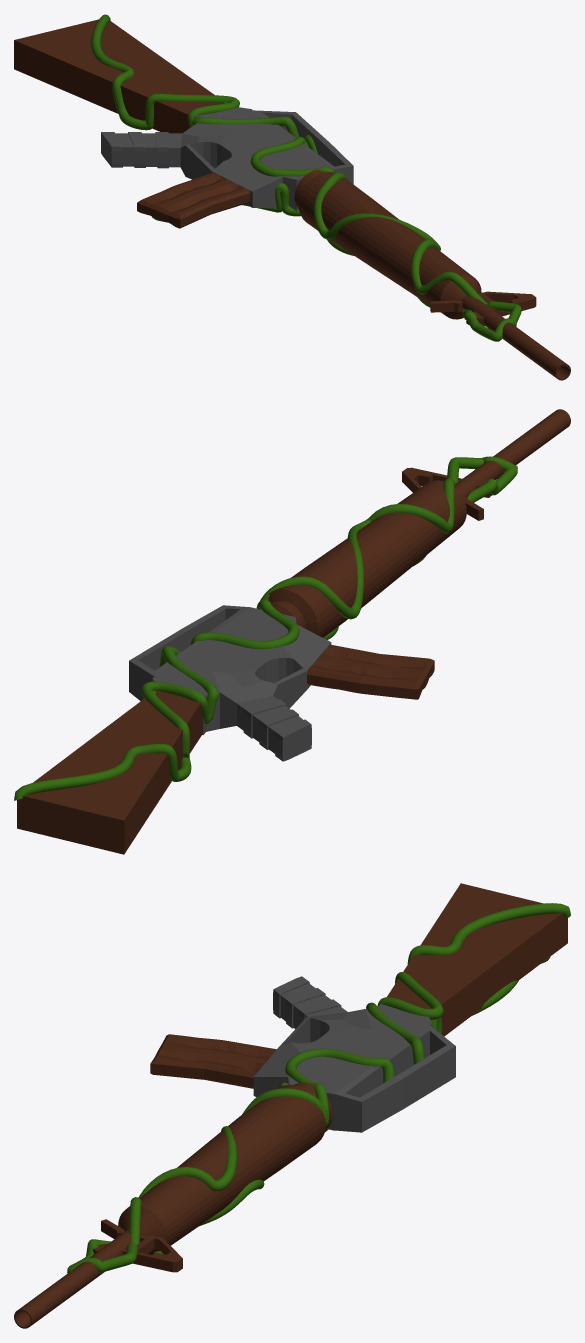
File: GunRifle.fbx
The picture shows the model from 3 angles, top to bottom: view 1: azimuth 30°, elevation 25°; view 2: azimuth 150°, elevation 25°; view 3: azimuth 330°, elevation 25°; orthographic projection. The views are drawn at different scales.
Visible parts, largest first — view 1: Main, Handle, Rifle, BezierCurve, Bullets, Plane.002; view 2: Main, Handle, Rifle, BezierCurve, Bullets, Plane.002; view 3: Main, Rifle, Handle, BezierCurve, Bullets, Plane.002.
Boxes of the visible parts, x1,y1,x2,y2 form: Main: (101,107,353,211); Handle: (14,19,222,133); Rifle: (294,169,570,380); BezierCurve: (91,14,521,341); Bullets: (137,172,250,228); Plane.002: (430,291,536,325); Main: (129,605,331,761); Handle: (17,690,202,854); Rifle: (258,409,570,637); BezierCurve: (14,456,517,800); Bullets: (307,644,434,699); Plane.002: (402,467,492,520); Main: (253,976,455,1132); Rifle: (14,1082,332,1328); Handle: (387,883,567,1036); BezierCurve: (67,903,570,1273); Bullets: (150,1034,276,1088); Plane.002: (93,1219,182,1272).
Bounding box in the file's own units: 34.83 × 479 × 122.
